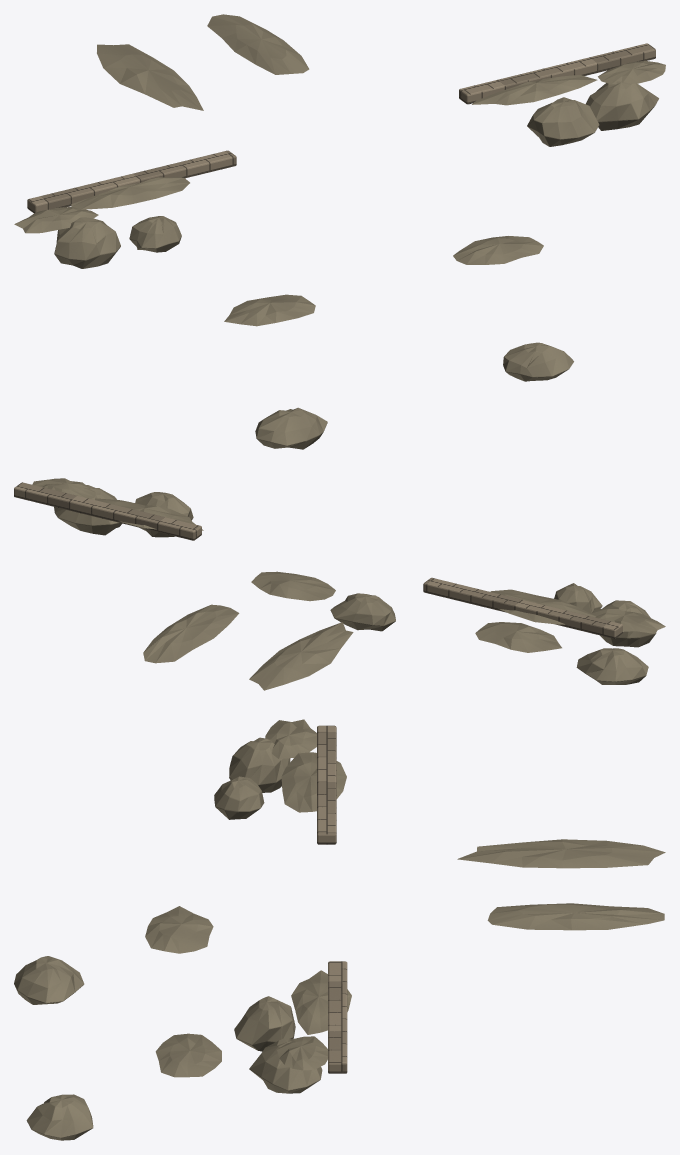
File: PremiumHeroContactUpliftV3.glb
The picture shows the model from 3 angles, top to bottom: view 1: azimuth 30°, elevation 25°; view 2: azimuth 150°, elevation 25°; view 3: azimuth 270°, elevation 25°; orthographic projection. The views are drawn at different scales.
Visible parts, largest first — view 1: RockContact_East, RockContact_West, RoadWestVerge, GateWestBerm, RoadEastVerge, GateFoundation_West, GateEastBerm, GateFoundation_East, ShoreRock_West, ShoreRock_East, BridgeWestShoulder, BridgeEastShoulder; view 2: RoadWestVerge, GateFoundation_West, GateFoundation_East, RoadEastVerge, GateWestBerm, RockContact_East, ShoreRock_West, BridgeWestShoulder, ShoreRock_East, RockContact_West, BridgeEastShoulder, GateEastBerm; view 3: RoadWestVerge, RockContact_East, RoadEastVerge, RockContact_West, GateWestBerm, GateEastBerm, ShoreRock_West, GateFoundation_West, BridgeWestShoulder, BridgeEastShoulder, ShoreRock_East, GateFoundation_East.
Boxes of the visible parts, x1,y1,x2,y2 form: RockContact_East: (527, 81, 658, 146); RockContact_West: (54, 216, 181, 268); RoadWestVerge: (97, 44, 203, 110); GateWestBerm: (14, 177, 189, 233); RoadEastVerge: (207, 14, 309, 74); GateFoundation_West: (27, 150, 236, 213); GateEastBerm: (472, 60, 665, 105); GateFoundation_East: (459, 43, 655, 104); ShoreRock_West: (255, 407, 327, 449); ShoreRock_East: (503, 342, 573, 381); BridgeWestShoulder: (224, 294, 315, 326); BridgeEastShoulder: (453, 236, 543, 264); RoadWestVerge: (249, 622, 353, 690); GateFoundation_West: (423, 577, 622, 638); GateFoundation_East: (14, 482, 201, 540); RoadEastVerge: (143, 604, 239, 663); GateWestBerm: (490, 589, 665, 633); RockContact_East: (54, 485, 193, 537); ShoreRock_West: (576, 648, 648, 684); BridgeWestShoulder: (475, 622, 561, 652); ShoreRock_East: (330, 593, 395, 631); RockContact_West: (554, 583, 656, 647); BridgeEastShoulder: (251, 571, 335, 601); GateEastBerm: (32, 478, 203, 530); RoadWestVerge: (457, 839, 665, 868); RockContact_East: (234, 996, 322, 1093); RoadEastVerge: (487, 903, 664, 930); RockContact_West: (214, 737, 290, 819); GateWestBerm: (265, 719, 346, 812); GateEastBerm: (277, 970, 351, 1070); ShoreRock_West: (14, 956, 84, 1004); GateFoundation_West: (317, 725, 336, 844); BridgeWestShoulder: (145, 906, 213, 953); BridgeEastShoulder: (155, 1033, 221, 1077); ShoreRock_East: (26, 1094, 93, 1140); GateFoundation_East: (328, 961, 347, 1073).
Bounding box in the file's own units: 28.29 × 7.37 × 22.1.
4 materials, 4 textured.
